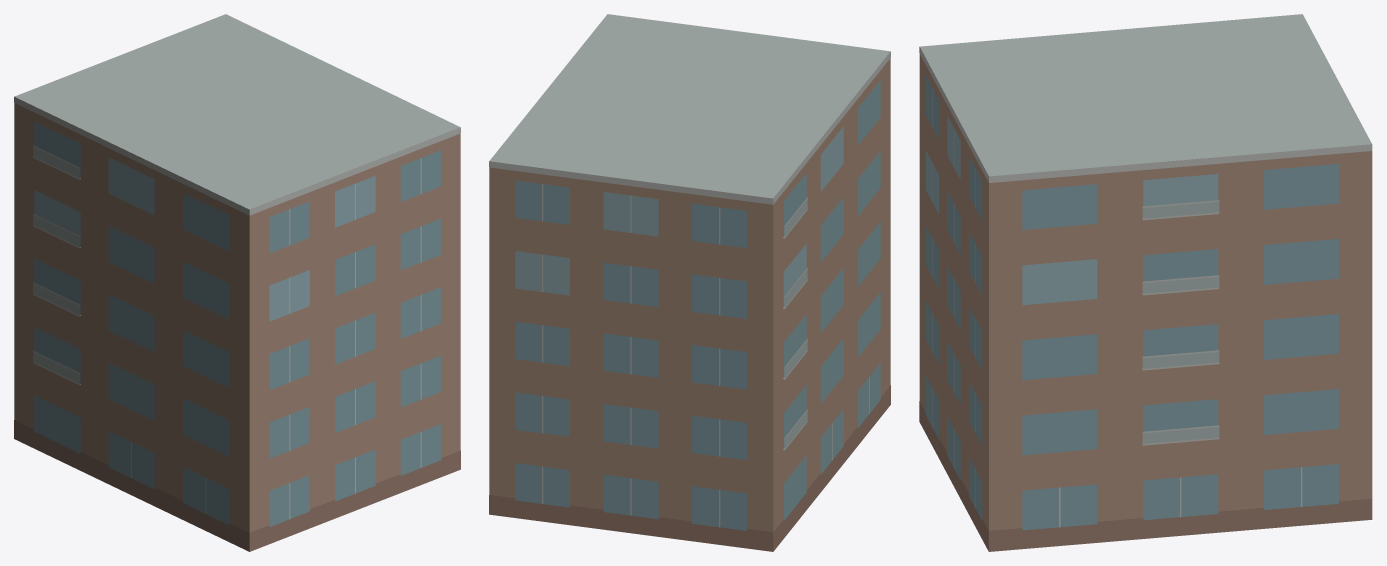
Rendered from survey-upis-32699326.glb.
3 renders of one model, left to right at view 1: azimuth 30°, elevation 25°; view 2: azimuth 150°, elevation 25°; view 3: azimuth 270°, elevation 25°, orthographic. The views are drawn at different scales.
Parts seen in each view (by area): view 1: survey-upis-32699326.tmp; view 2: survey-upis-32699326.tmp; view 3: survey-upis-32699326.tmp.
Boxes of the visible parts, x1=… form: survey-upis-32699326.tmp: x1=14, y1=14, x2=460, y2=551; survey-upis-32699326.tmp: x1=489, y1=14, x2=890, y2=551; survey-upis-32699326.tmp: x1=919, y1=14, x2=1372, y2=551.
Size of the model in its own units: 12.86 by 13.84 by 15.14.
